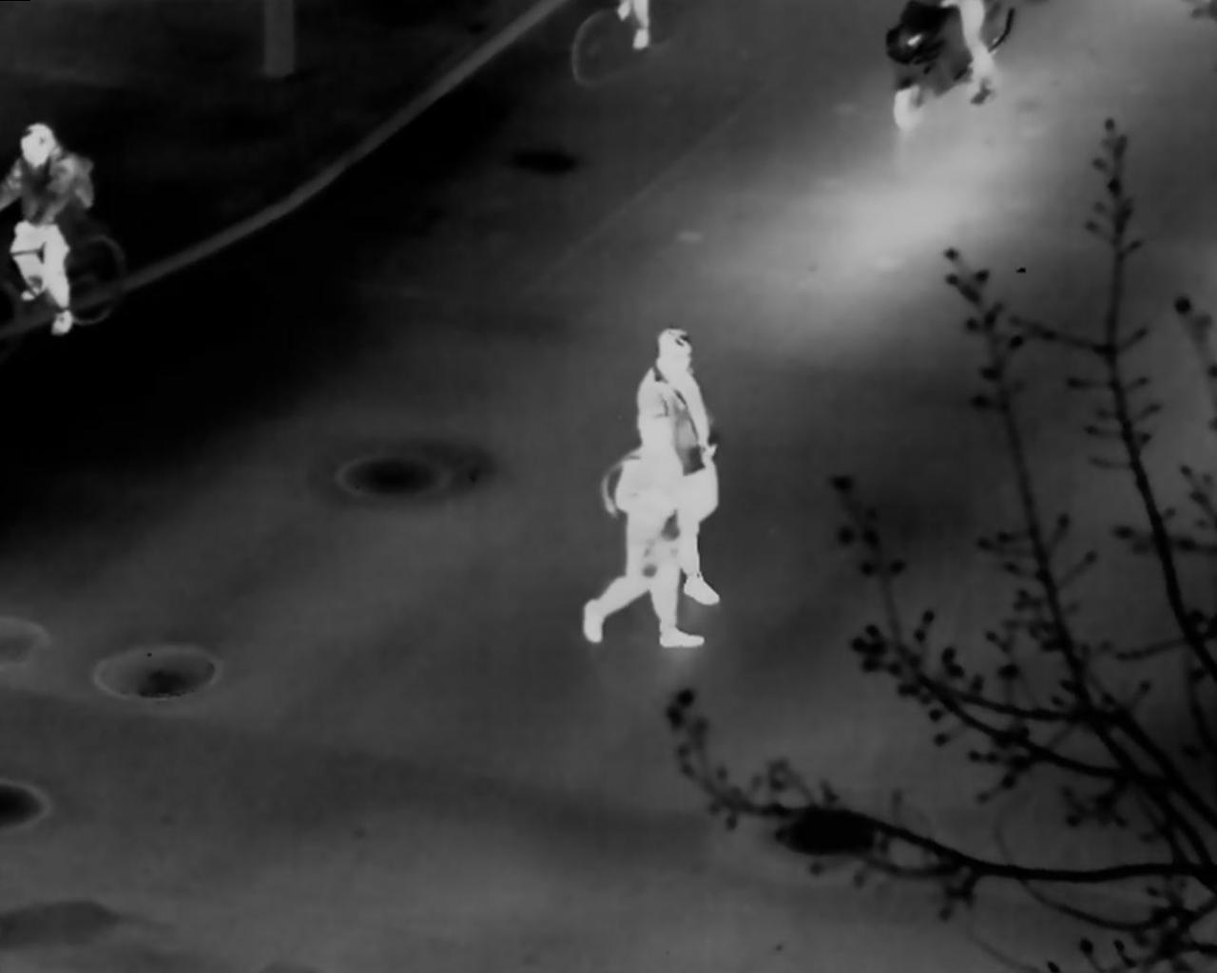person: (580, 414, 707, 650), (632, 326, 724, 609), (3, 120, 94, 335)
